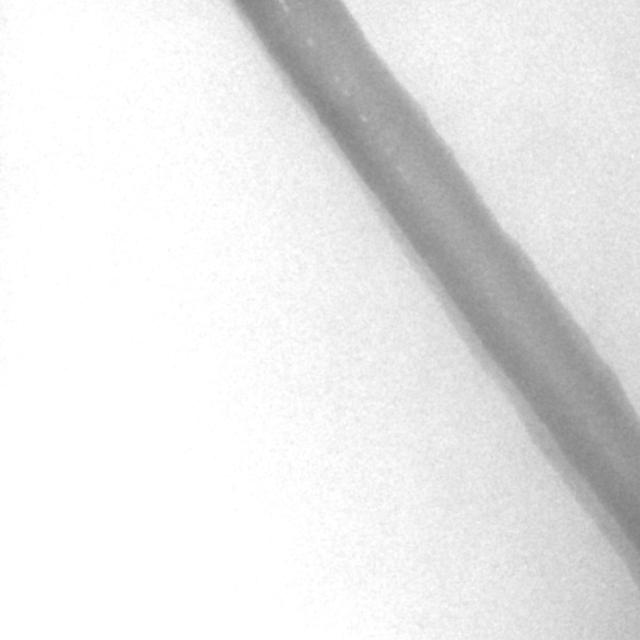air hole: (304, 34, 315, 47), (358, 112, 367, 125), (280, 2, 289, 14)
